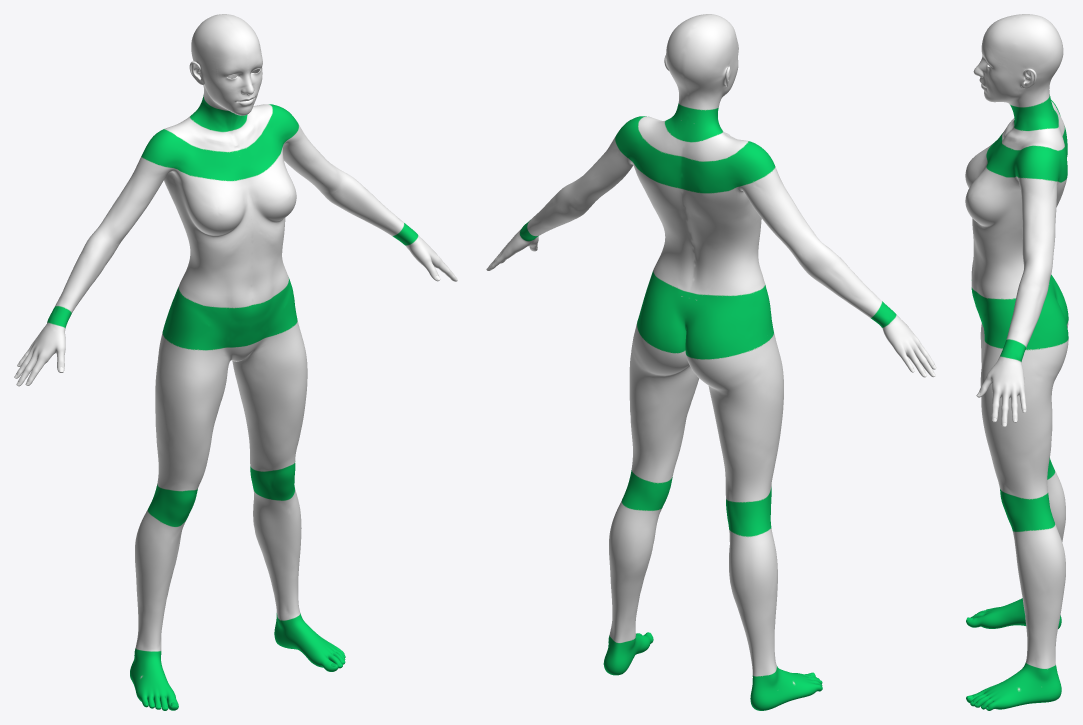
Rendered from female.glb.
3 views of the same model, side by side, from view 1: azimuth 30°, elevation 25°; view 2: azimuth 150°, elevation 25°; view 3: azimuth 270°, elevation 25° (orthographic). The views are drawn at different scales.
Parts seen in each view (by area): view 1: Female; view 2: Female; view 3: Female.
Boxes of the visible parts, x1,y1,x2,y2 form: Female: (14,14,457,710); Female: (486,14,936,710); Female: (965,14,1068,710).
Size of the model in its own units: 14.09 by 20 by 2.88.
1 material, 1 textured.
